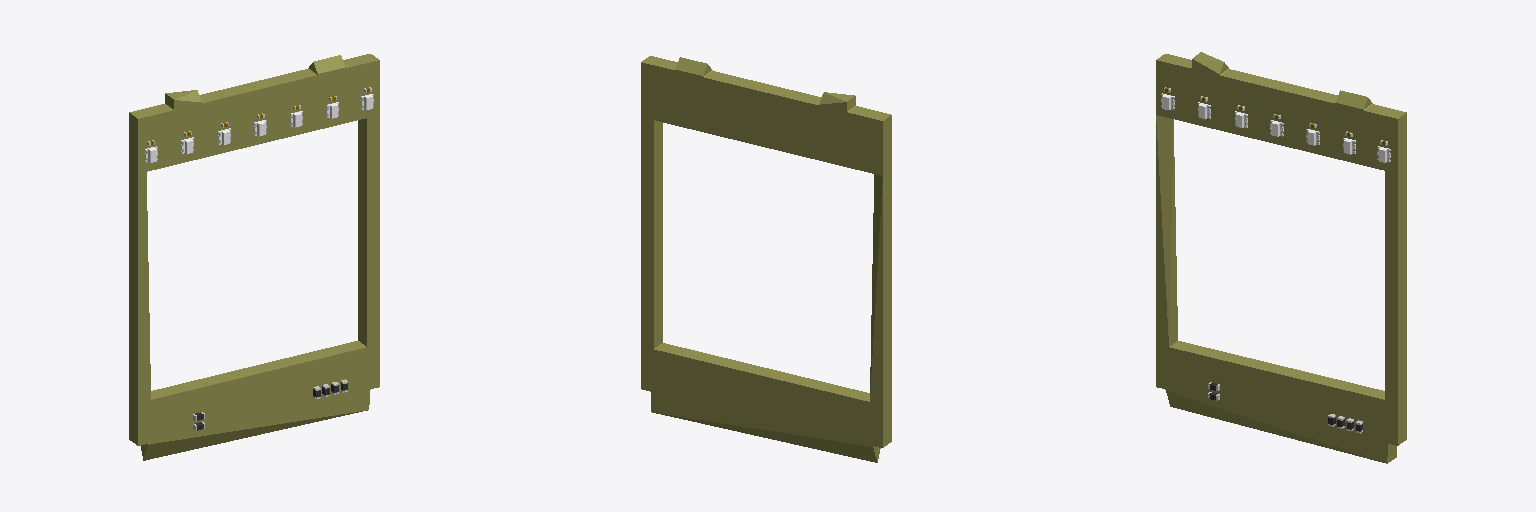
File: OBJ_Front.obj
3 views of the same model, side by side, from view 1: azimuth 30°, elevation 25°; view 2: azimuth 150°, elevation 25°; view 3: azimuth 330°, elevation 25° (orthographic).
Size of the model in its own units: 154 by 218 by 13.3.